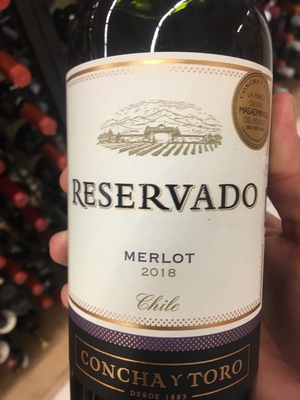reservado merlot: (58, 14, 287, 381)
